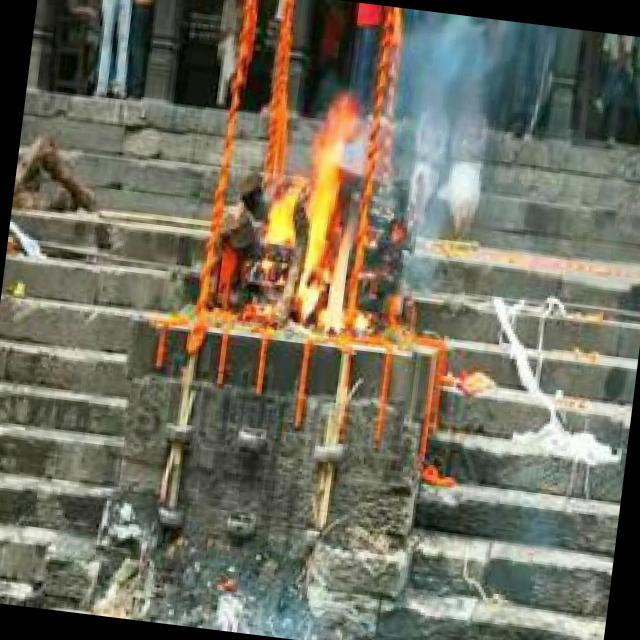fire: (252, 110, 375, 343)
